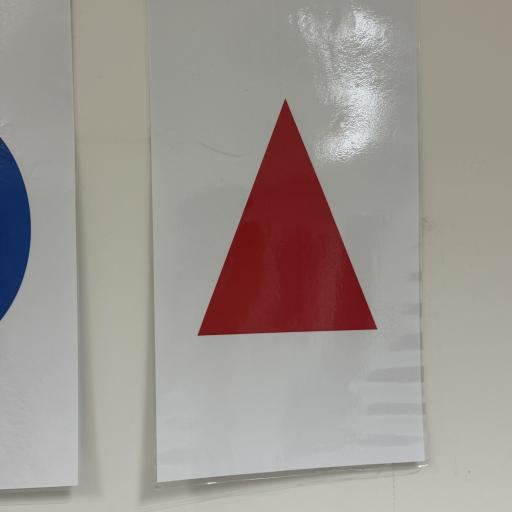red_triangle: (195, 101, 378, 339)
